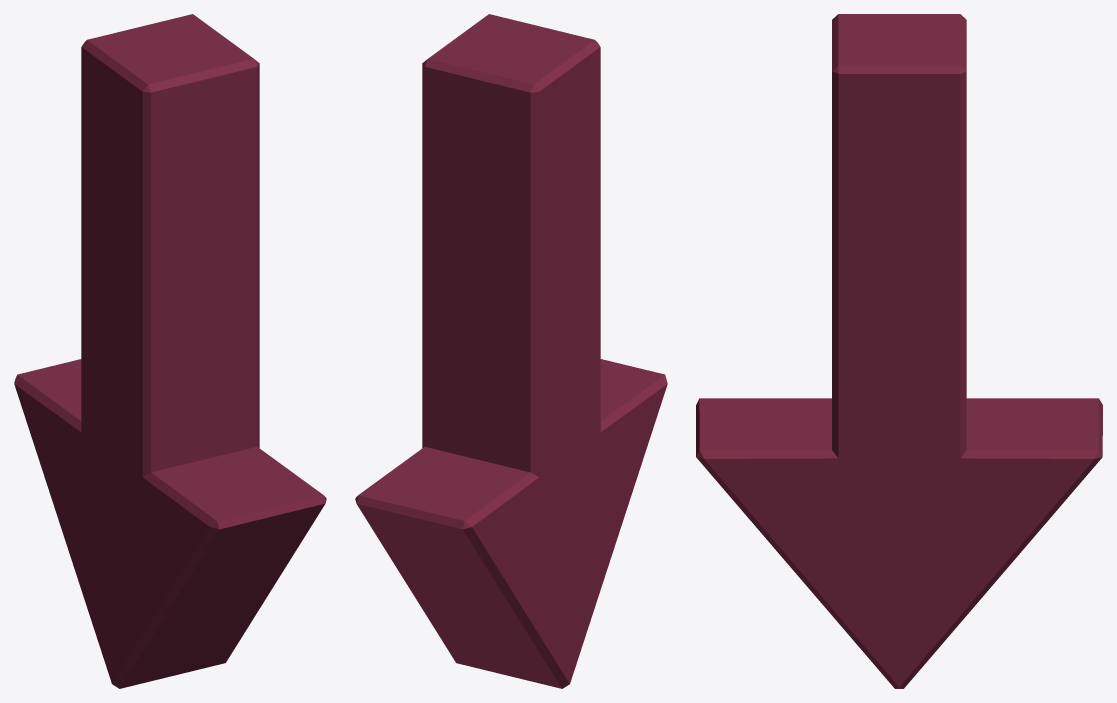
File: arrow.fbx
3 renders of one model, left to right at view 1: azimuth 30°, elevation 25°; view 2: azimuth 150°, elevation 25°; view 3: azimuth 270°, elevation 25°, orthographic.
Visible parts, largest first — view 1: arrow; view 2: arrow; view 3: arrow.
Boxes of the visible parts, bbox=[...] form: arrow: bbox=[14, 14, 326, 688]; arrow: bbox=[355, 14, 667, 688]; arrow: bbox=[696, 14, 1102, 688].
Bounding box in the file's own units: 100 × 511 × 302.
